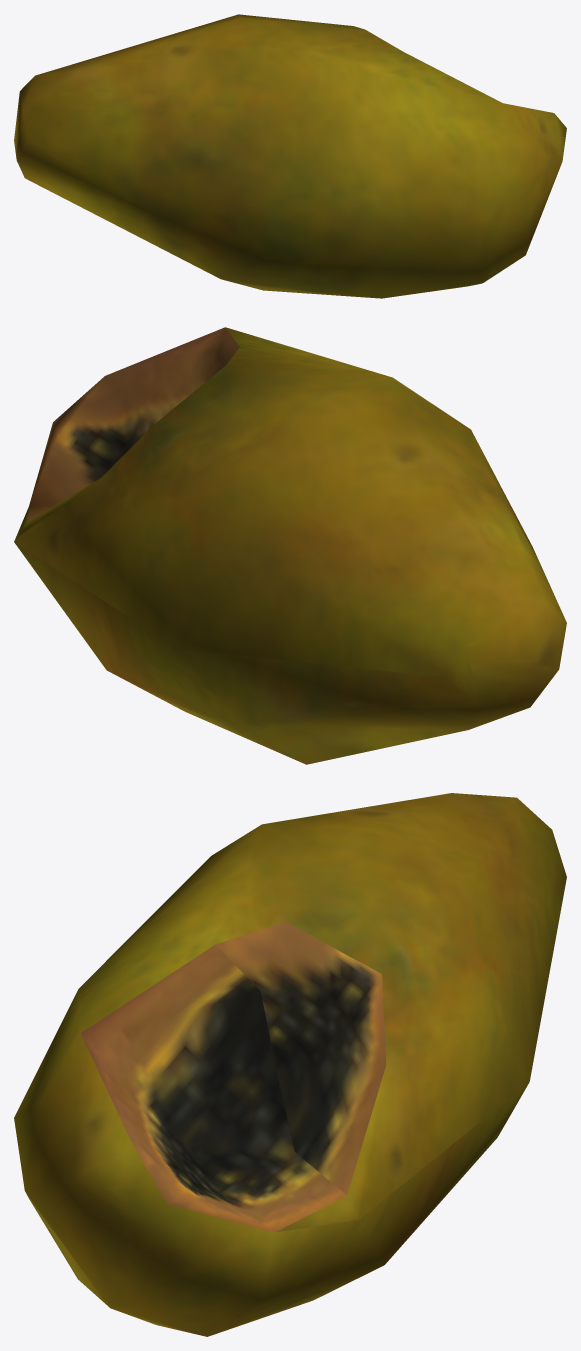
Rendered from PapayaEaten_LOD1.fbx.
3 renders of one model, top to bottom at view 1: azimuth 30°, elevation 25°; view 2: azimuth 150°, elevation 25°; view 3: azimuth 270°, elevation 25°, orthographic. The views are drawn at different scales.
Parts seen in each view (by area): view 1: FruitEaten_LOD1; view 2: FruitEaten_LOD1; view 3: FruitEaten_LOD1.
Part boxes in pixels (x1,y1,x2,y2): FruitEaten_LOD1: (14,14,566,298); FruitEaten_LOD1: (14,327,566,764); FruitEaten_LOD1: (14,793,566,1336).
Bounding box in the file's own units: 0.2496 × 0.1341 × 0.1757.
